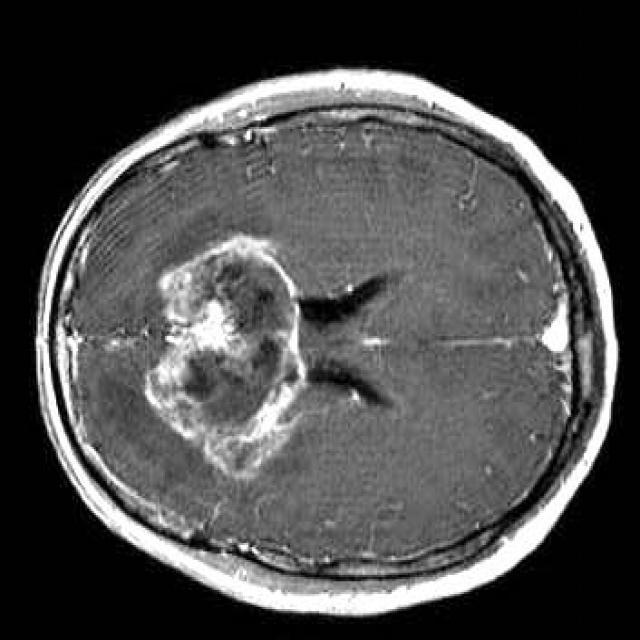tumor: (143, 237, 326, 478)
